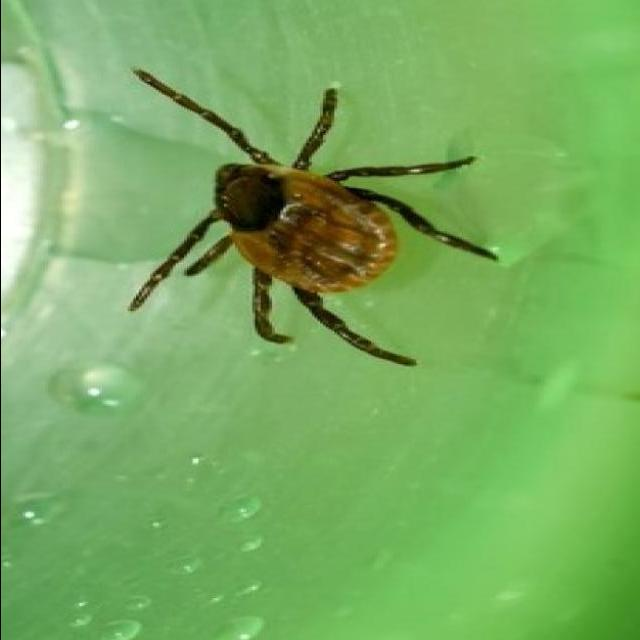Rhipicephalus Sanguineus-F: (129, 68, 495, 364)
